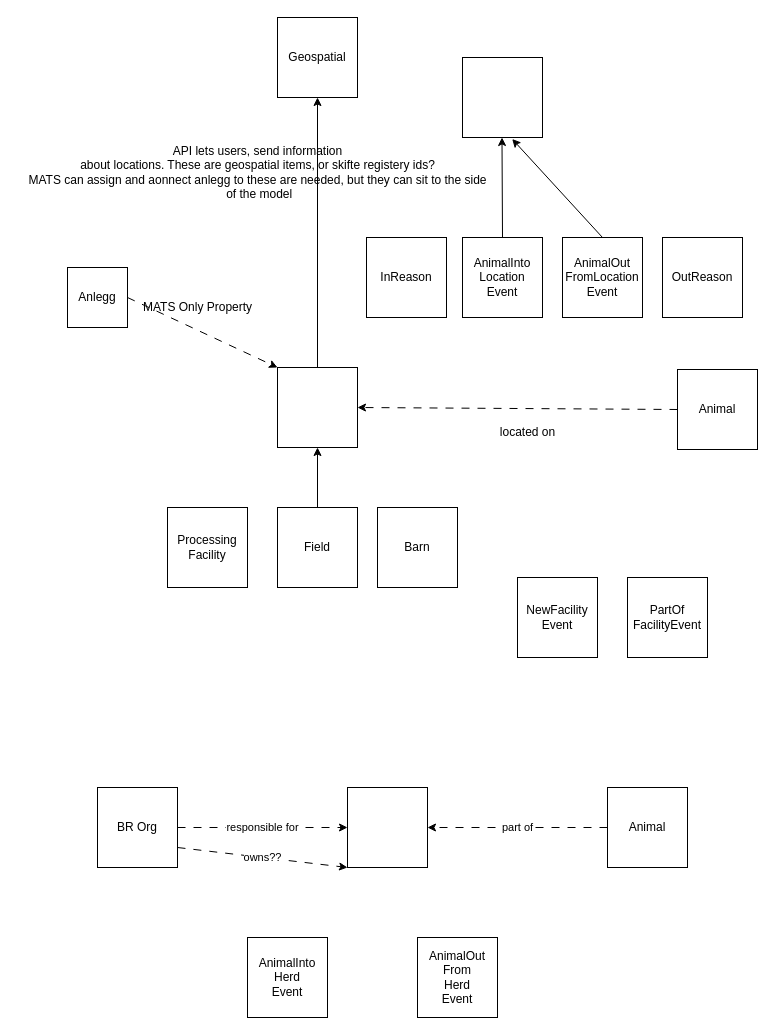
This 775x1035 diagram has some shape labels left out. Each missing label, with the box of its shape:
Event: (462, 56, 542, 138)
Herd: (346, 786, 428, 868)
Location: (276, 366, 358, 448)
